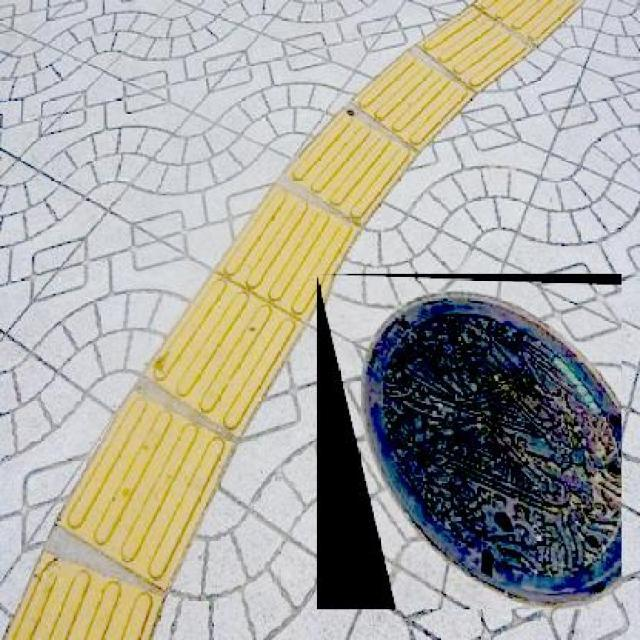Manhole: (318, 274, 622, 610)
